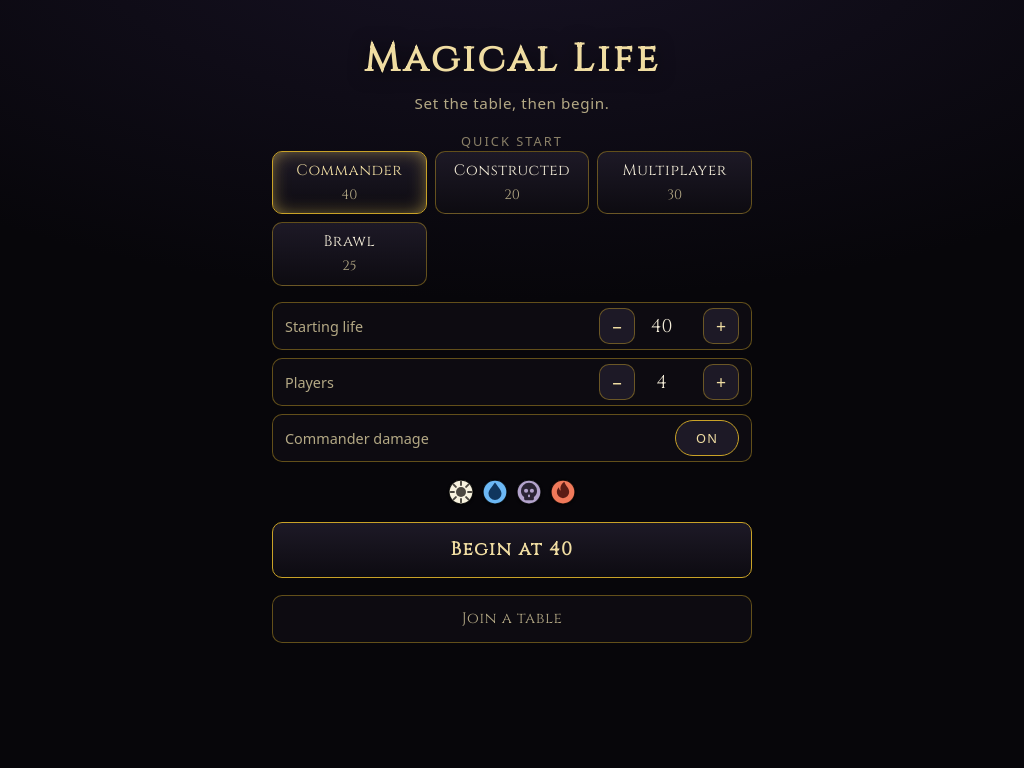
Test: new game sheet › refuses a starting life that is not a life total
Step 1. Replace the text in the number field labelled "Starting life" with "0" → [669, 326], box [643,310,695,343]
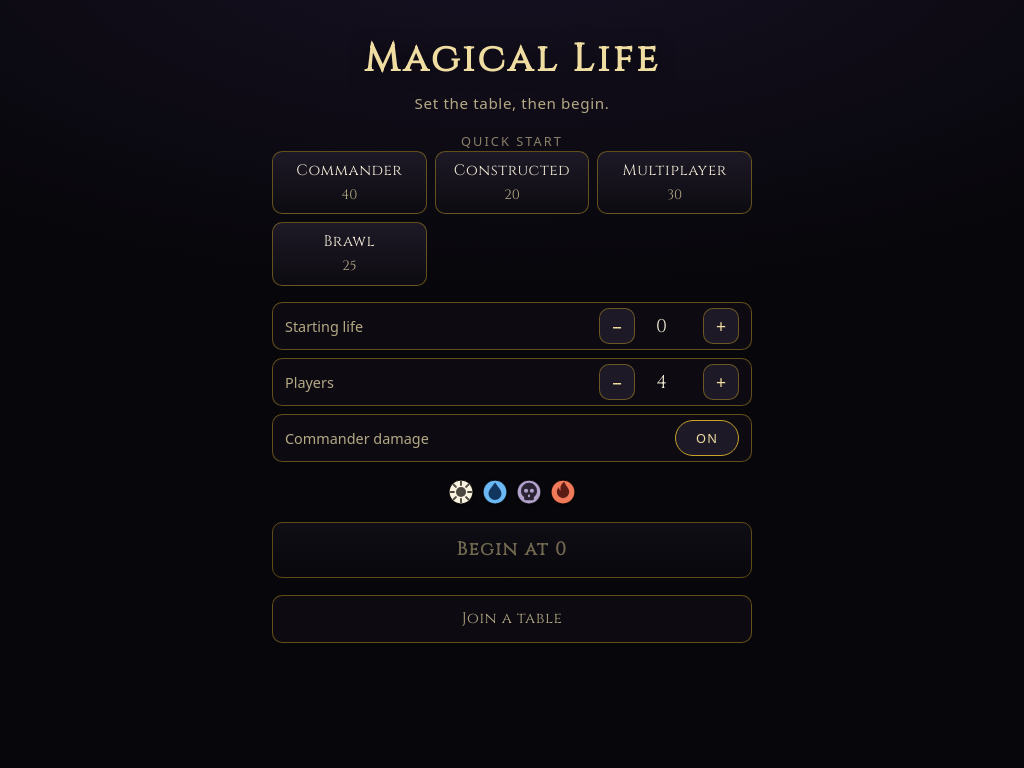
Check: the button "Begin at 0" is disabled, box [272,522,752,578]
Step 2. Replace the text in the number field labelled "Starting life" with "20" → [669, 326], box [643,310,695,343]
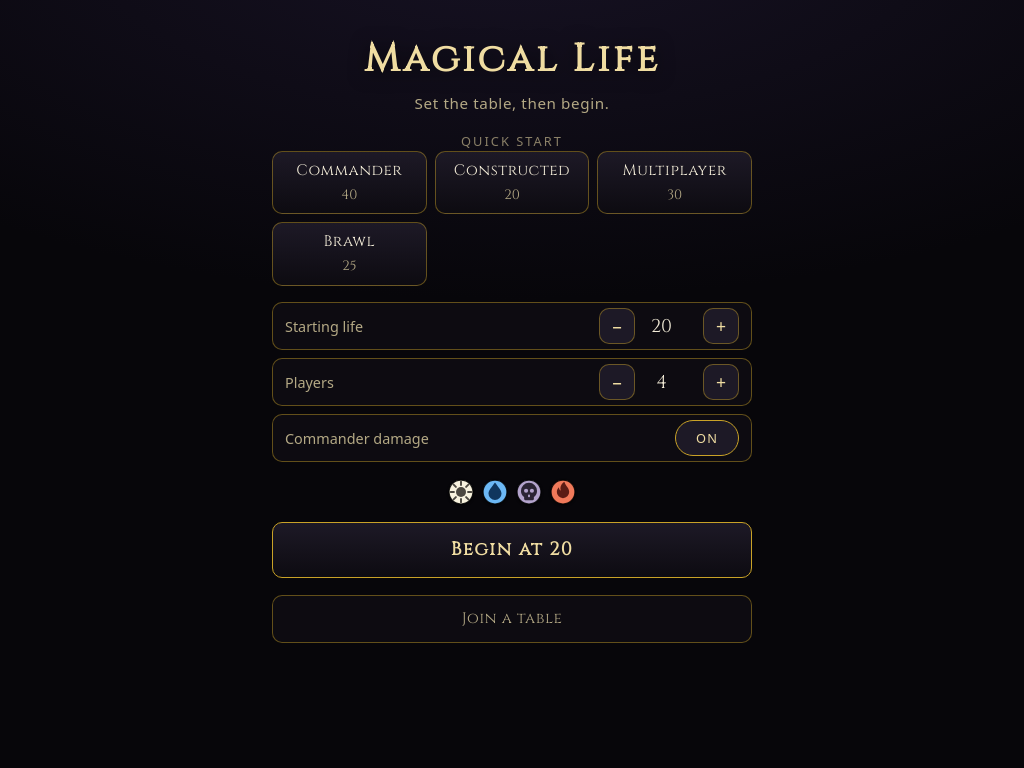
Check: the button "Begin at 20" is enabled, box [272,522,752,578]
